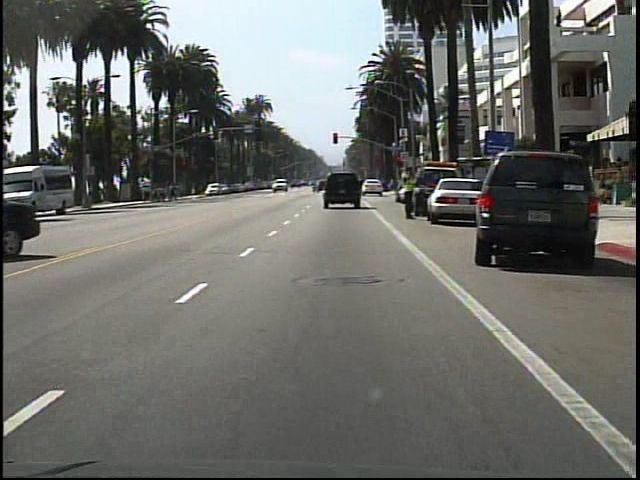person: (398, 164, 419, 219)
